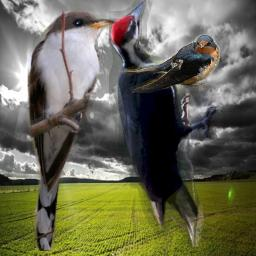Cuckoo: (25, 8, 119, 251)
Swallow: (114, 34, 220, 93)
Woodpecker: (109, 0, 223, 247)
